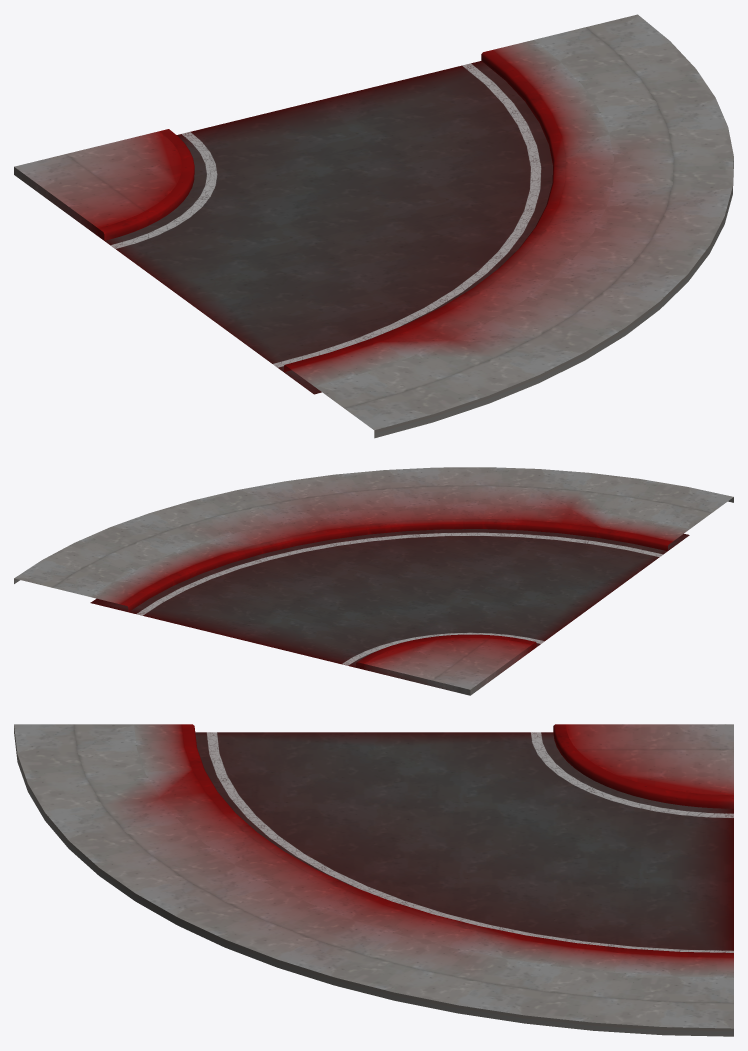
The model's file is Street_Curve_2Lane.glb.
3 renders of one model, top to bottom at view 1: azimuth 30°, elevation 25°; view 2: azimuth 150°, elevation 25°; view 3: azimuth 270°, elevation 25°, orthographic. The views are drawn at different scales.
Visible parts, largest first — view 1: Street_Curve_2Lane; view 2: Street_Curve_2Lane; view 3: Street_Curve_2Lane.
Part boxes in pixels (x1,y1,x2,y2): Street_Curve_2Lane: [14, 14, 733, 438]; Street_Curve_2Lane: [14, 467, 733, 695]; Street_Curve_2Lane: [14, 724, 733, 1036].
Size of the model in its own units: 12 by 0.1502 by 12.
3 materials, 3 textured.
